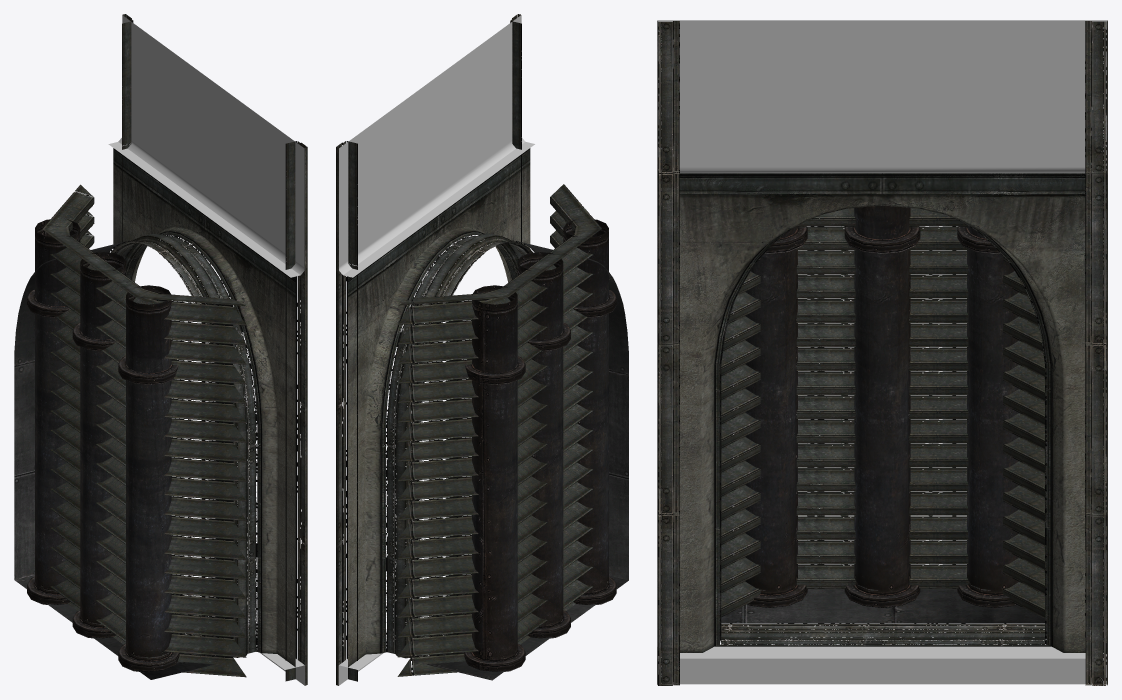
File: tesla_dressing_coolant.dae
3 views of the same model, side by side, from view 1: azimuth 30°, elevation 25°; view 2: azimuth 150°, elevation 25°; view 3: azimuth 270°, elevation 25° (orthographic). The views are drawn at different scales.
Visible parts, largest first — view 1: polySurface25, polySurface26, wall_arch_stone, wall_arch_arch, polySurface2; view 2: polySurface25, polySurface26, wall_arch_stone, wall_arch_arch, polySurface2; view 3: polySurface25, wall_arch_stone, wall_arch_arch, polySurface26, polySurface2.
Boxes of the visible parts, x1,y1,x2,y2 form: polySurface25: (42, 14, 307, 685); polySurface26: (27, 219, 179, 671); wall_arch_stone: (108, 15, 304, 685); wall_arch_arch: (113, 148, 295, 666); polySurface2: (14, 241, 214, 679); polySurface25: (336, 14, 602, 685); polySurface26: (464, 219, 616, 671); wall_arch_stone: (338, 15, 534, 685); wall_arch_arch: (348, 148, 530, 666); polySurface2: (426, 241, 628, 680); polySurface25: (657, 20, 1107, 685); wall_arch_stone: (657, 20, 1107, 684); wall_arch_arch: (658, 173, 1106, 652); polySurface26: (745, 205, 1018, 607); polySurface2: (721, 588, 1044, 623).
Bounding box in the file's own units: 1.77 × 6.5 × 4.
